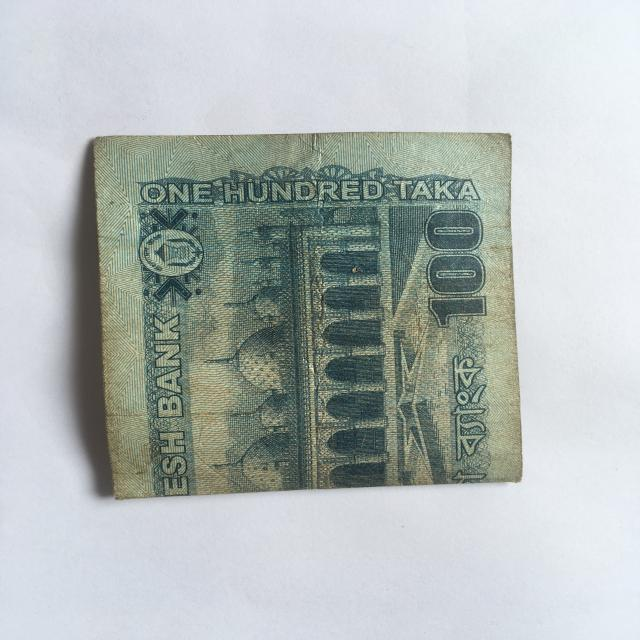Taka: (88, 120, 531, 491)
